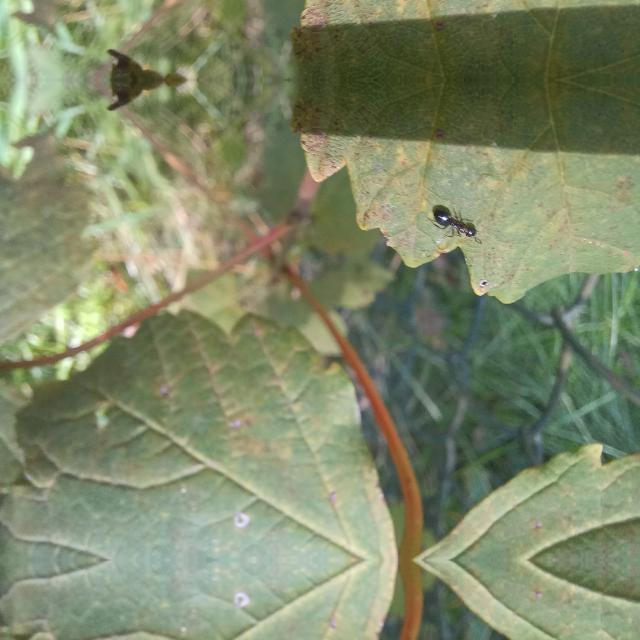Dolichoderus: (421, 200, 485, 246)
